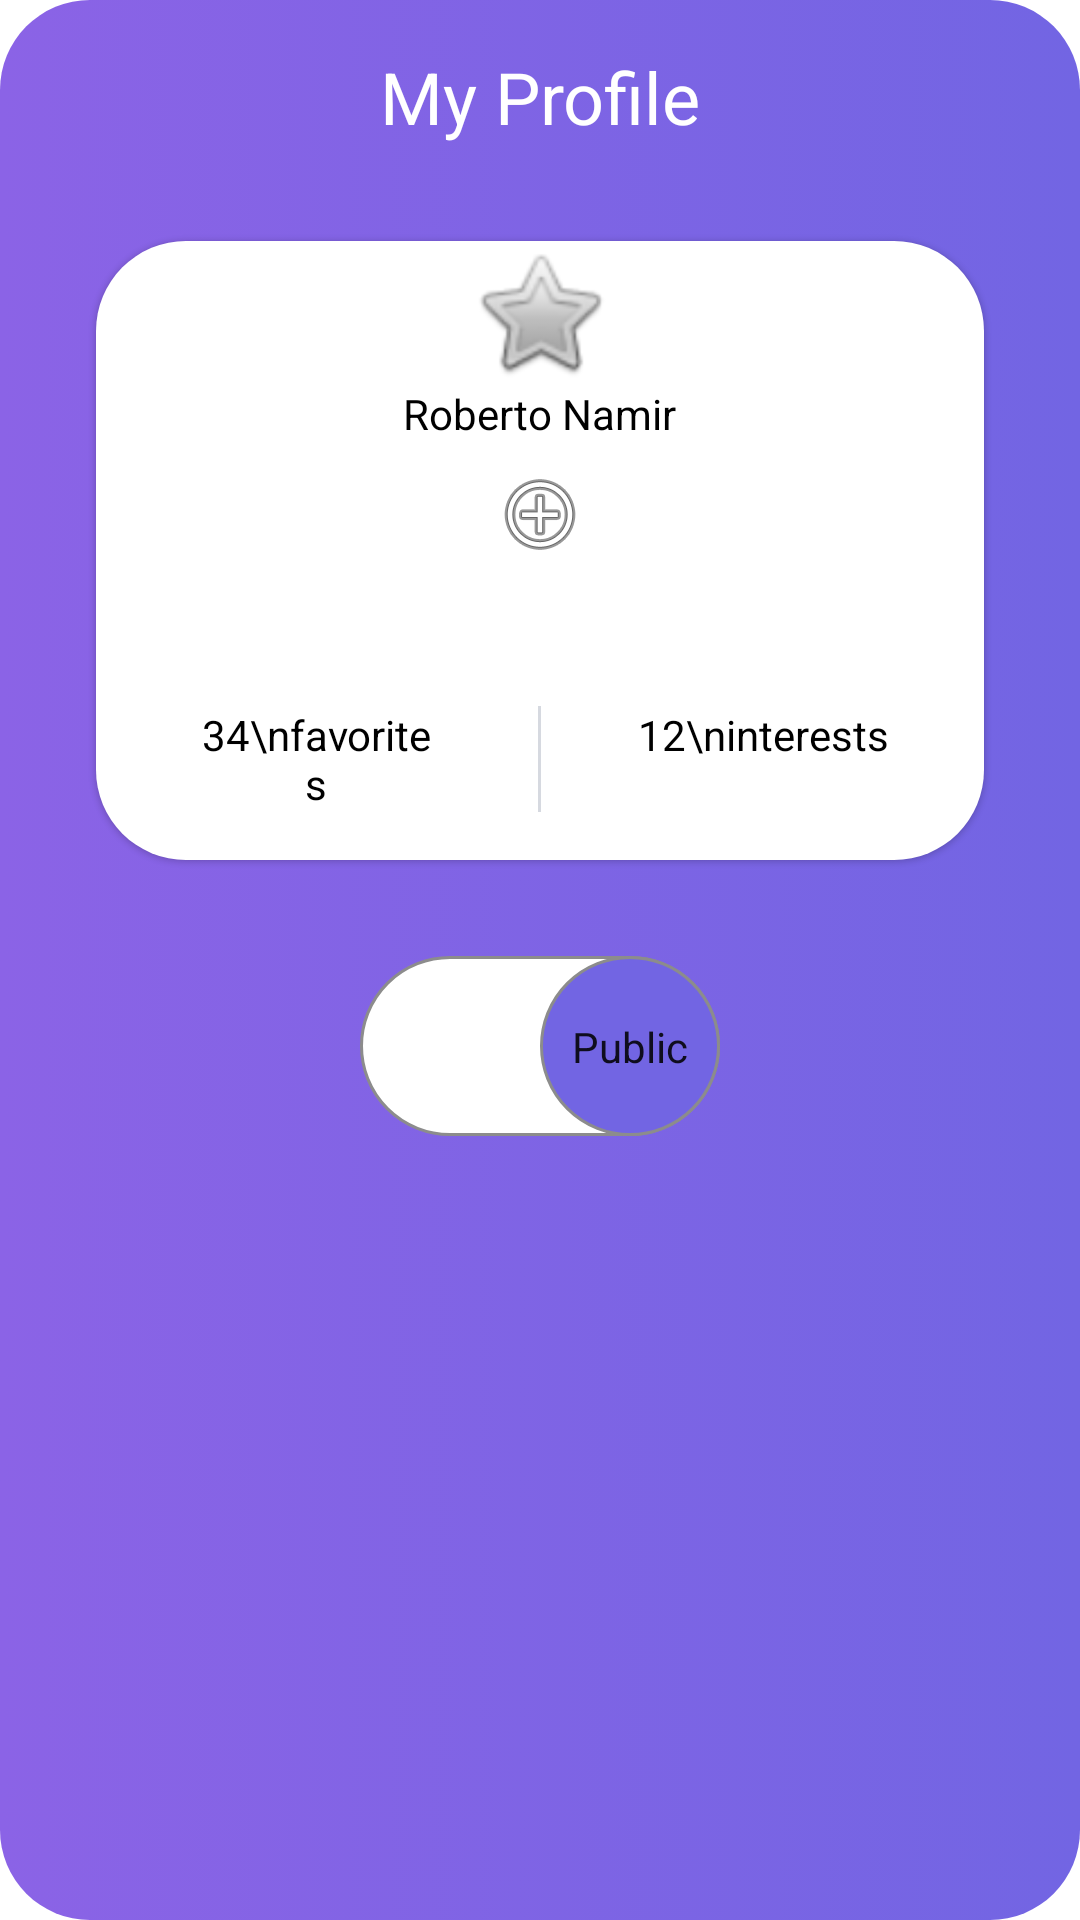

Locate icon controls on the screen. Image size 1080px×1920px, boxes as (x1, y1, x2, y2).
add: (504, 479, 576, 550)
star: (481, 255, 601, 373)
